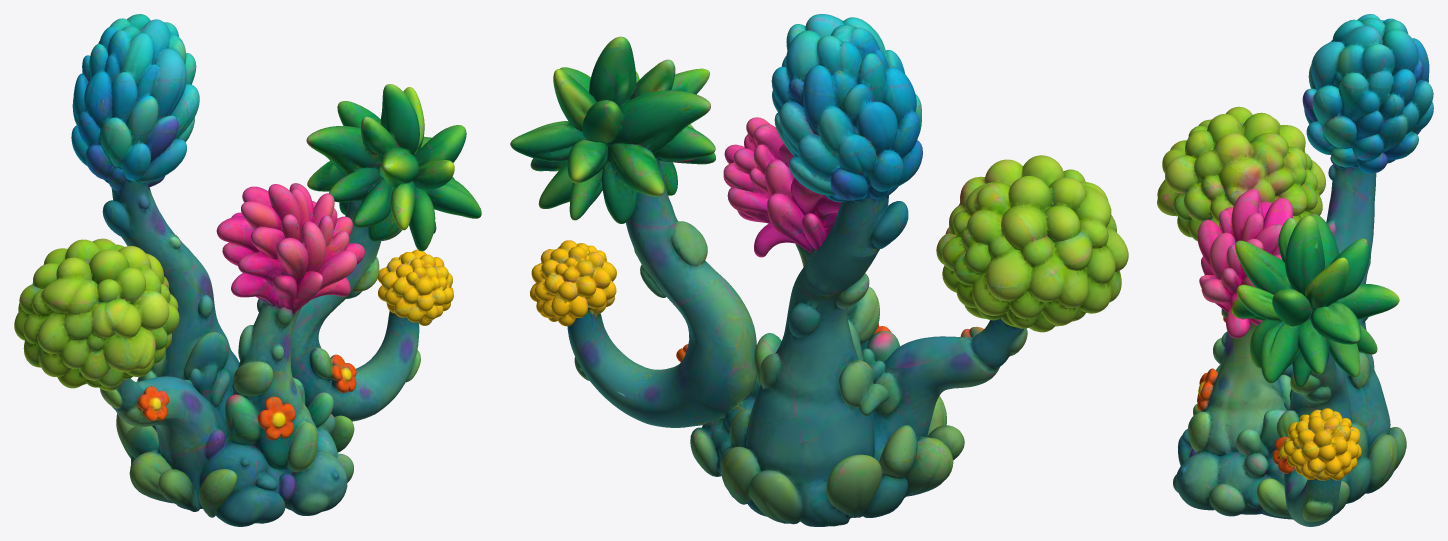
The model's file is whimsy-bloom-coral.glb.
3 views of the same model, side by side, from view 1: azimuth 30°, elevation 25°; view 2: azimuth 150°, elevation 25°; view 3: azimuth 270°, elevation 25° (orthographic). The views are drawn at different scales.
Parts seen in each view (by area): view 1: Mesh_0; view 2: Mesh_0; view 3: Mesh_0.
Boxes of the visible parts, box(x1,y1,x2,y2) form: Mesh_0: box(14, 14, 481, 526); Mesh_0: box(510, 14, 1128, 526); Mesh_0: box(1157, 14, 1433, 526).
Size of the model in its own units: 1.9 by 1.71 by 0.9877.
1 material, 1 textured.
